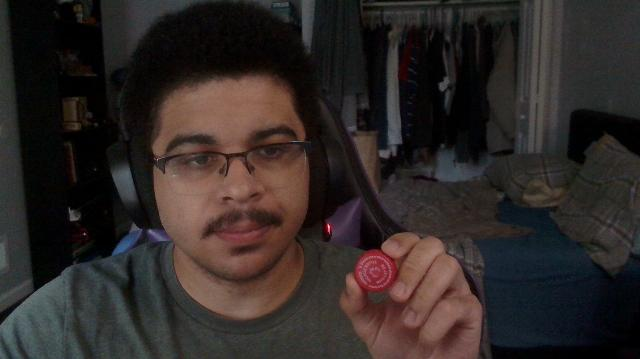cap: (354, 249, 398, 295)
